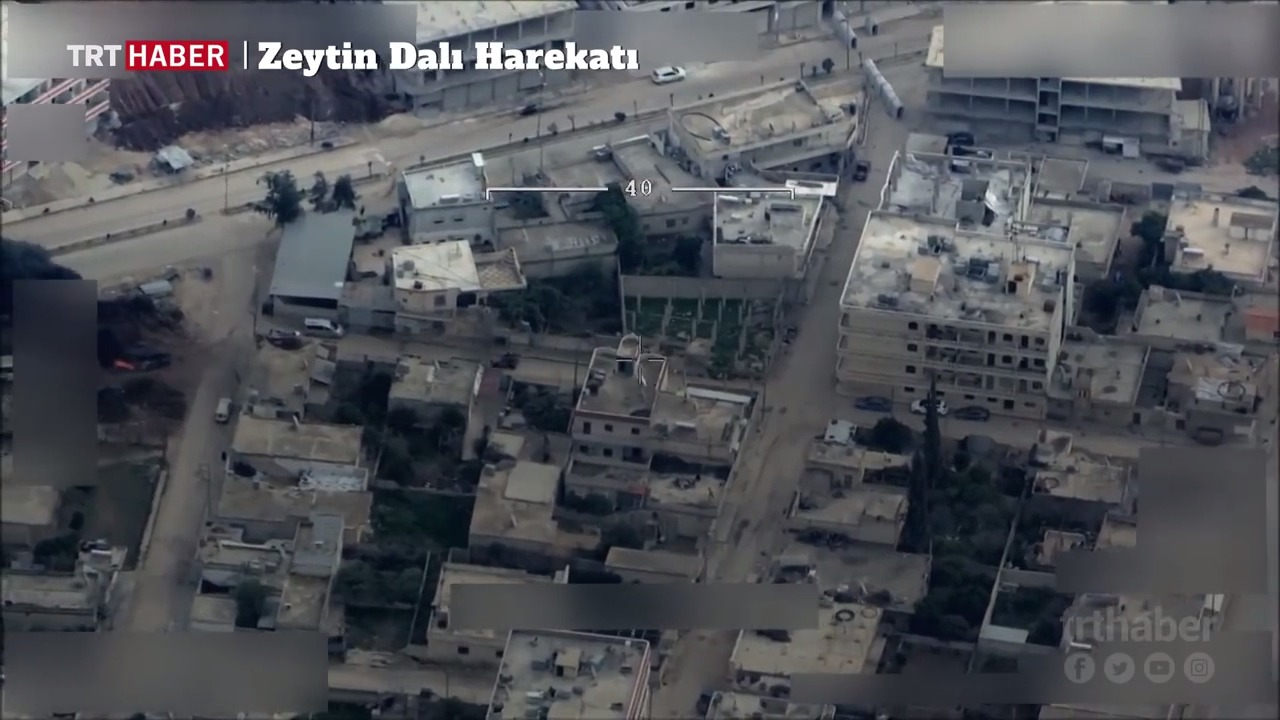arac: (840, 151, 887, 183), (952, 398, 997, 429), (909, 382, 950, 416), (846, 390, 899, 415), (484, 348, 527, 374), (205, 386, 233, 425), (304, 313, 343, 341), (648, 62, 687, 86)
